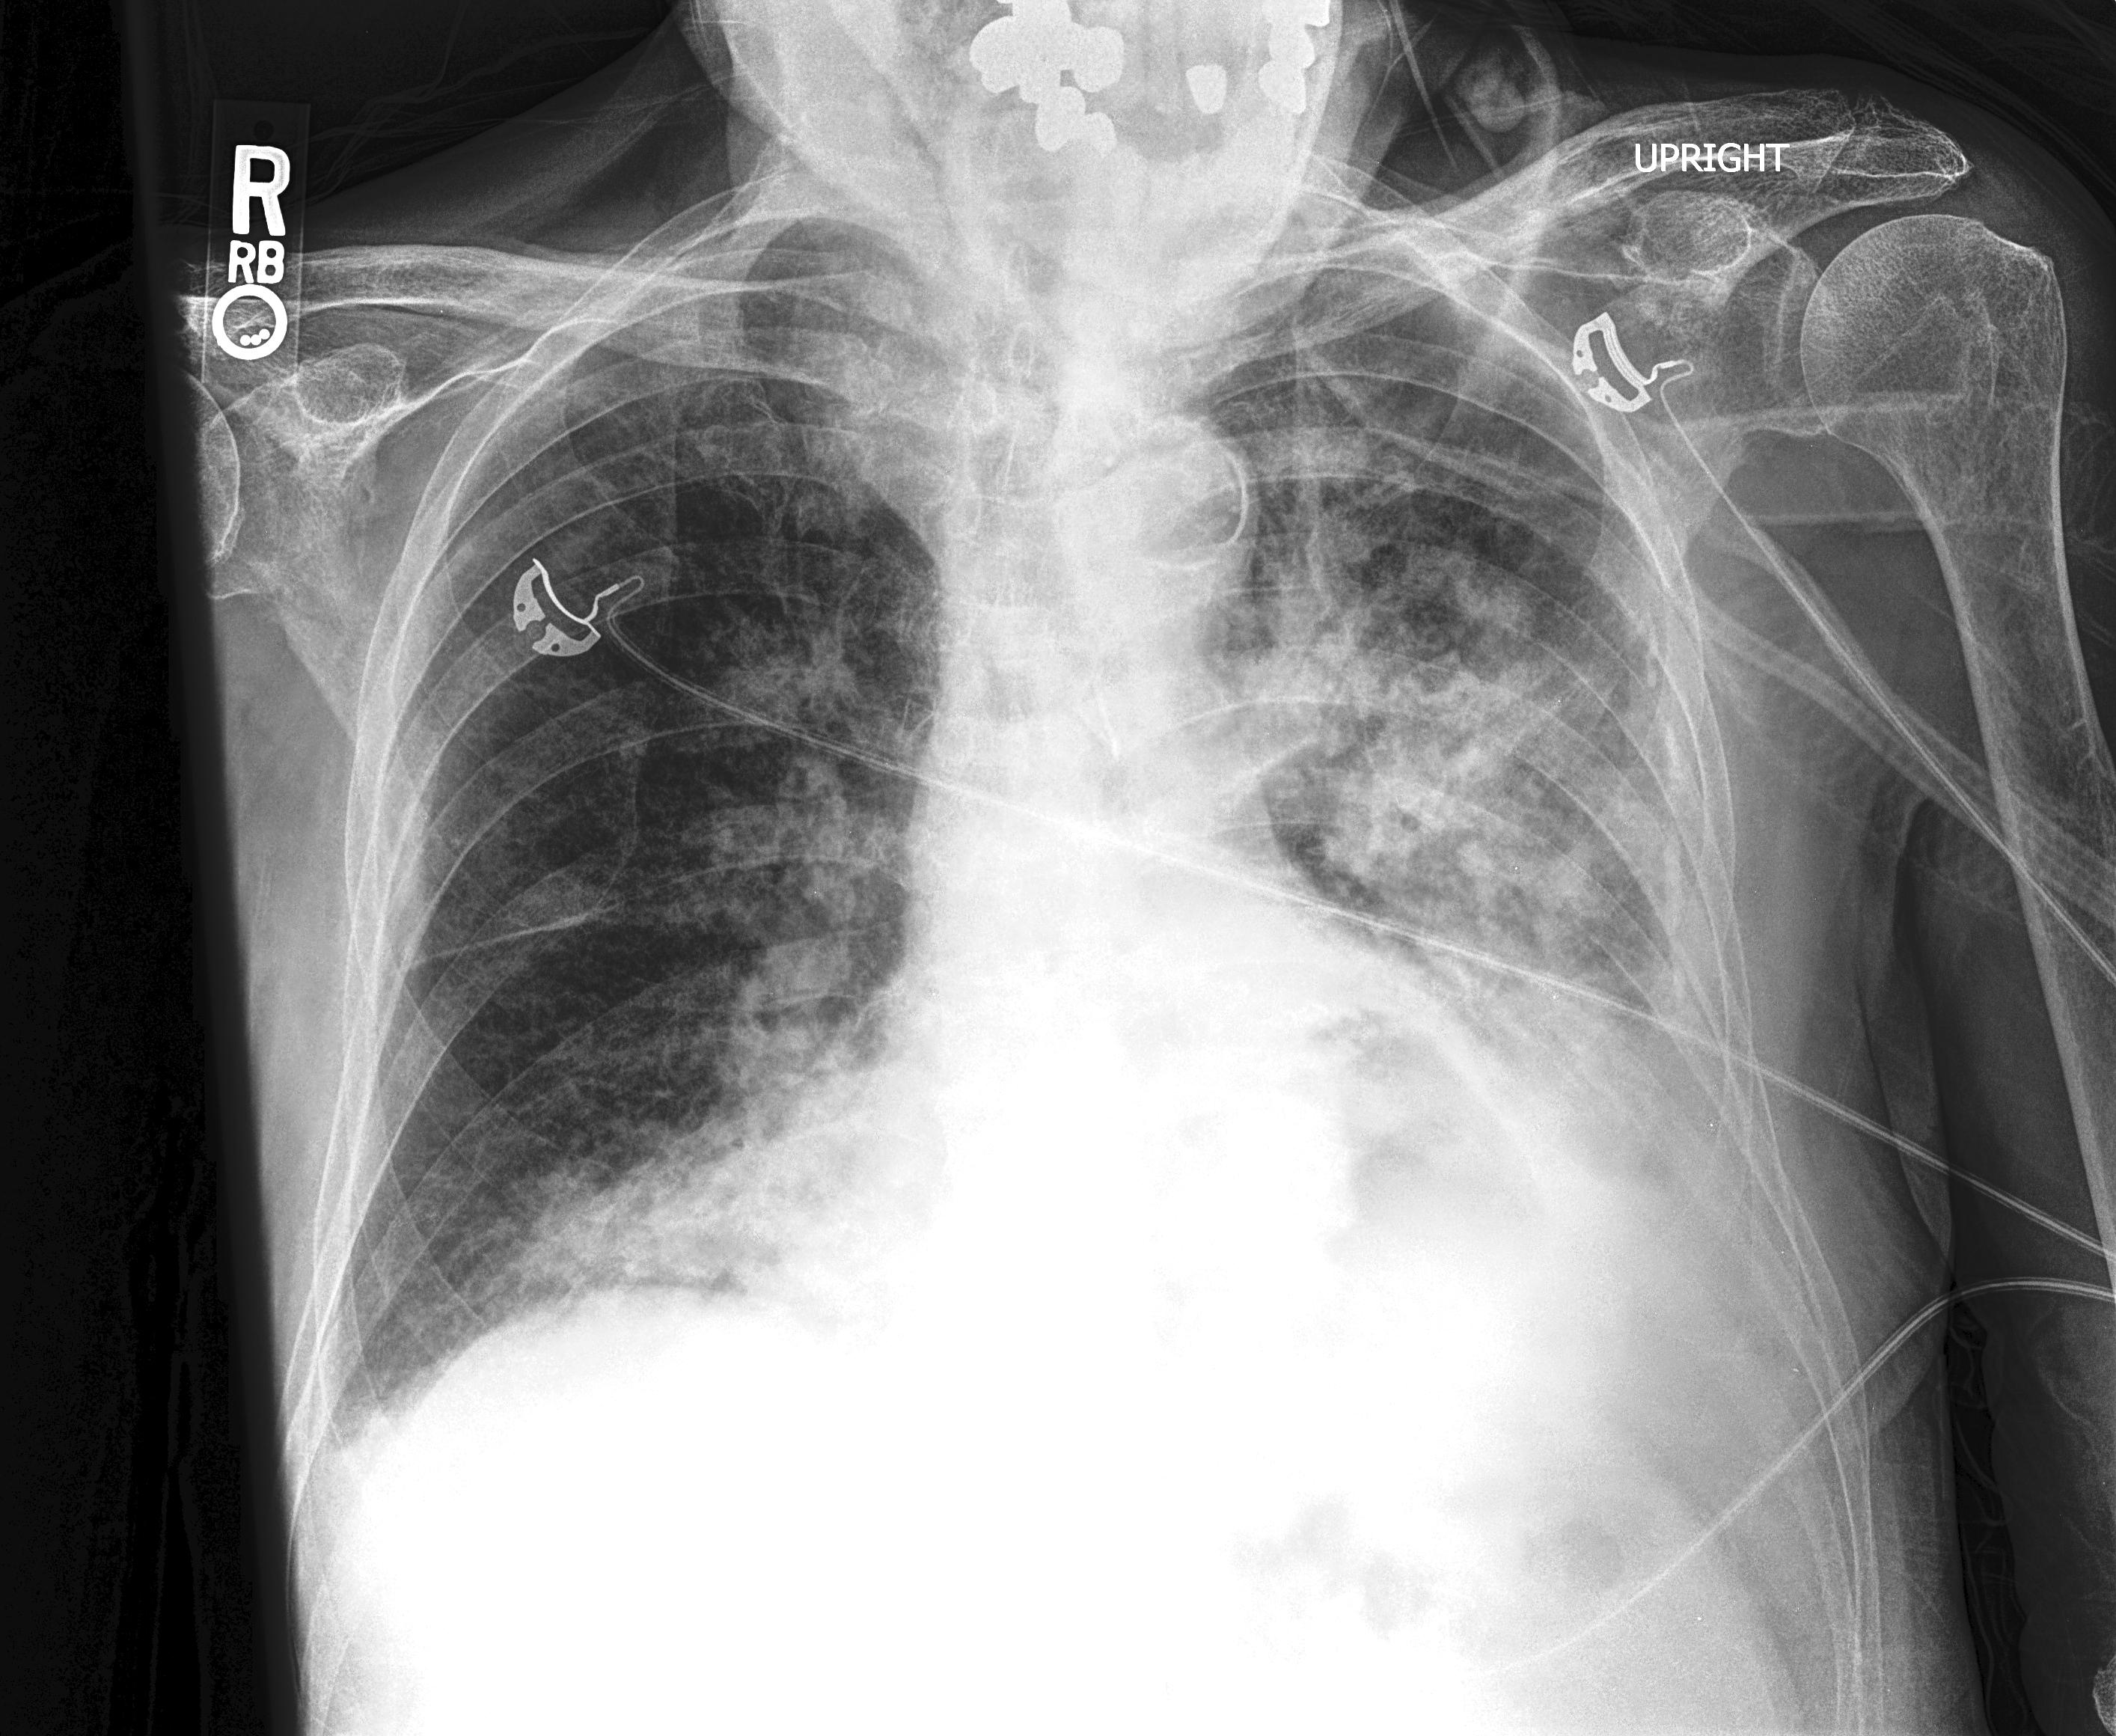Pleural Effusion: (1404, 949, 1879, 1360)
